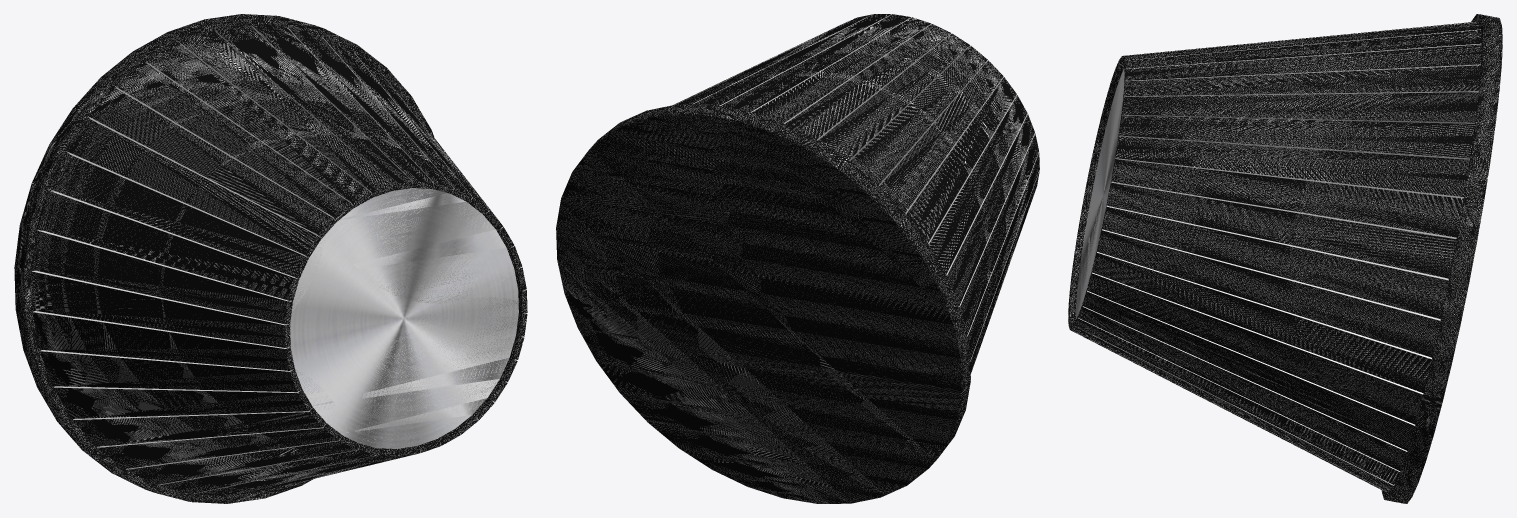
File: original-36.obj
3 views of the same model, side by side, from view 1: azimuth 30°, elevation 25°; view 2: azimuth 150°, elevation 25°; view 3: azimuth 270°, elevation 25° (orthographic). The views are drawn at different scales.
Visible parts, largest first — view 1: mesh77/mesh77-geometry#mesh77-geometry; view 2: mesh77/mesh77-geometry#mesh77-geometry; view 3: mesh77/mesh77-geometry#mesh77-geometry.
Part boxes in pixels (x1,y1,x2,y2): mesh77/mesh77-geometry#mesh77-geometry: (14, 14, 527, 503); mesh77/mesh77-geometry#mesh77-geometry: (556, 14, 1039, 503); mesh77/mesh77-geometry#mesh77-geometry: (1068, 14, 1502, 503).
Bounding box in the file's own units: 0.1433 × 0.1414 × 0.1254.
Materials: 3 (1 with a texture image).
